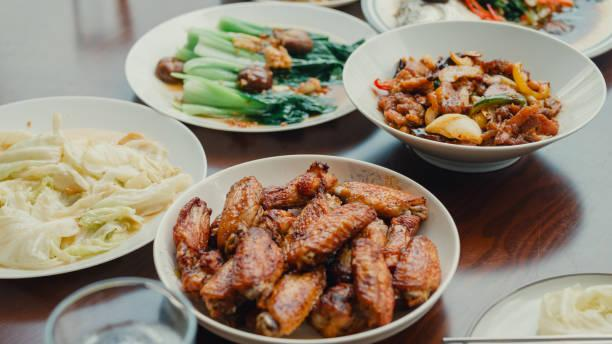Braised Crucian Carp: (155, 153, 455, 341), (344, 19, 606, 171), (3, 94, 208, 278), (125, 1, 375, 134)
